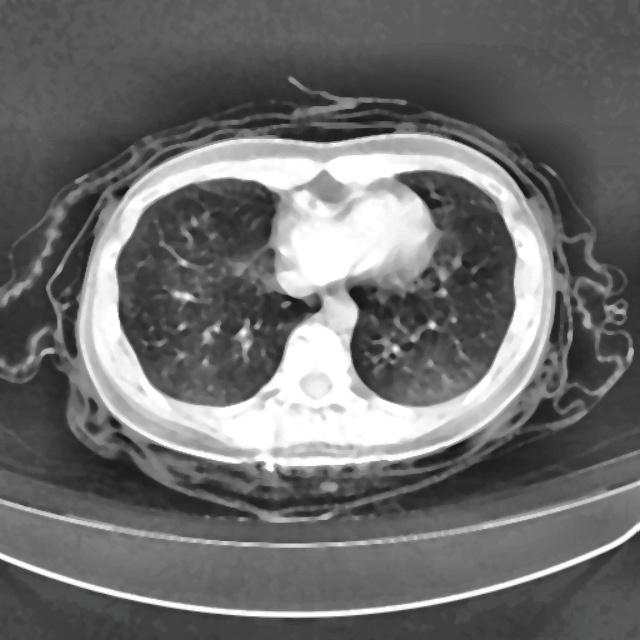covid: (1, 79, 633, 522)
